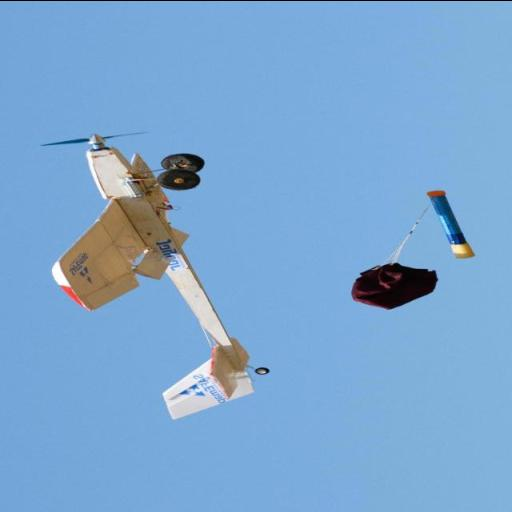uav: (28, 117, 294, 421)
